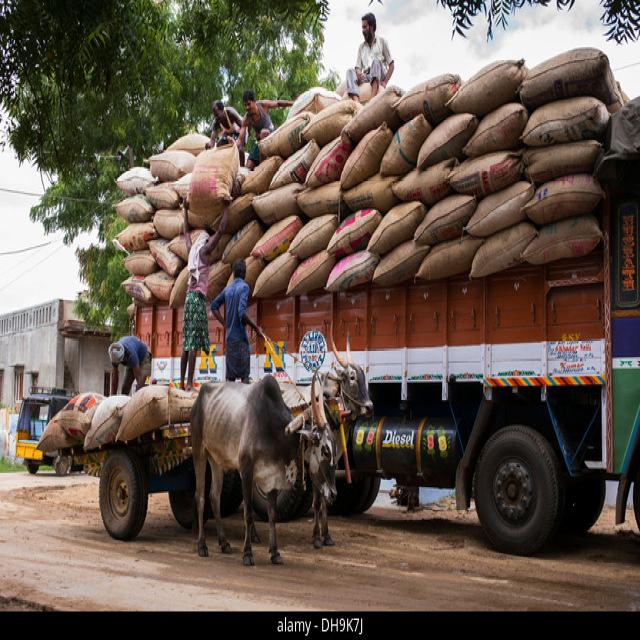goods: (115, 48, 640, 306)
truck: (249, 200, 640, 554), (135, 304, 181, 384), (199, 320, 224, 381), (250, 339, 271, 379)
